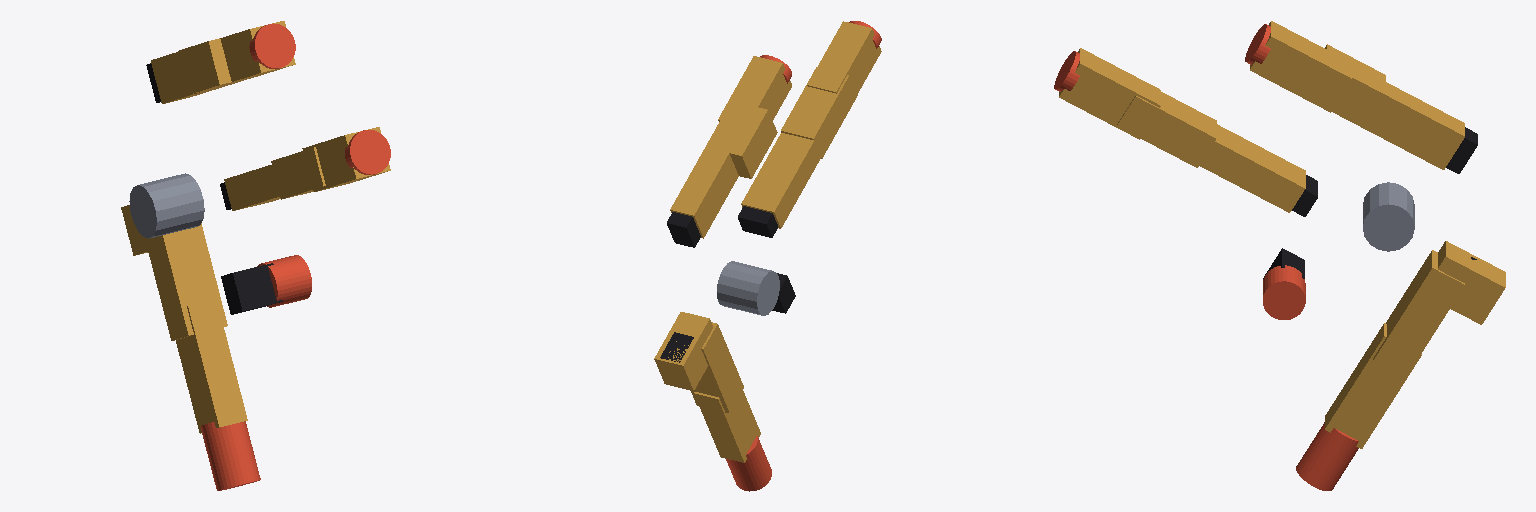
The robot description file, URDF, robot "g0051_c15":
<robot name="g0051_c15">
  <link name="palm">
    <visual name="palm_palm1">
      <origin xyz="0 0 0" rpy="0 0 0" />
      <geometry>
        <mesh filename="palm_palm1.obj" />
      </geometry>
      <material name="palm_palm1_mat">
        <color rgba="0.55 0.57 0.62 1" />
      </material>
    </visual>
    <collision>
      <origin xyz="0 0 0" rpy="0 0 0" />
      <geometry>
        <mesh filename="palm_palm1.obj" />
      </geometry>
    </collision>
    <visual name="palm_mount2">
      <origin xyz="0 0 0" rpy="0 0 0" />
      <geometry>
        <mesh filename="palm_mount2.obj" />
      </geometry>
      <material name="palm_mount2_mat">
        <color rgba="0.55 0.57 0.62 1" />
      </material>
    </visual>
    <collision>
      <origin xyz="0 0 0" rpy="0 0 0" />
      <geometry>
        <mesh filename="palm_mount2.obj" />
      </geometry>
    </collision>
    <visual name="palm_motor3">
      <origin xyz="-0.007 -0.08 -0.04" rpy="1.06057524e-16 -1.04719755 1.57079633" />
      <geometry>
        <box size="0.029 0.034 0.02" />
      </geometry>
      <material name="palm_motor3_mat">
        <color rgba="0.15 0.15 0.17 1" />
      </material>
    </visual>
    <collision>
      <origin xyz="-0.007 -0.08 -0.04" rpy="1.06057524e-16 -1.04719755 1.57079633" />
      <geometry>
        <box size="0.029 0.034 0.02" />
      </geometry>
    </collision>
    <visual name="palm_motor4">
      <origin xyz="-0.0045 -0.0735048095 0.03625" rpy="-0.523598776 -5.30287619e-17 3.061617e-17" />
      <geometry>
        <box size="0.029 0.034 0.02" />
      </geometry>
      <material name="palm_motor4_mat">
        <color rgba="0.15 0.15 0.17 1" />
      </material>
    </visual>
    <collision>
      <origin xyz="-0.0045 -0.0735048095 0.03625" rpy="-0.523598776 -5.30287619e-17 3.061617e-17" />
      <geometry>
        <box size="0.029 0.034 0.02" />
      </geometry>
    </collision>
    <visual name="palm_motor5">
      <origin xyz="-0.0045 0.0666996732 -0.0467548095" rpy="1.57079633 -0.523598776 -1.57079633" />
      <geometry>
        <box size="0.029 0.034 0.02" />
      </geometry>
      <material name="palm_motor5_mat">
        <color rgba="0.15 0.15 0.17 1" />
      </material>
    </visual>
    <collision>
      <origin xyz="-0.0045 0.0666996732 -0.0467548095" rpy="1.57079633 -0.523598776 -1.57079633" />
      <geometry>
        <box size="0.029 0.034 0.02" />
      </geometry>
    </collision>
    <visual name="palm_motor6">
      <origin xyz="0 0.0464951905 0.07625" rpy="-1.57079633 -1.04719755 1.57079633" />
      <geometry>
        <box size="0.029 0.034 0.02" />
      </geometry>
      <material name="palm_motor6_mat">
        <color rgba="0.15 0.15 0.17 1" />
      </material>
    </visual>
    <collision>
      <origin xyz="0 0.0464951905 0.07625" rpy="-1.57079633 -1.04719755 1.57079633" />
      <geometry>
        <box size="0.029 0.034 0.02" />
      </geometry>
    </collision>
    <inertial>
      <origin xyz="0 -0.0018037996 0.00636735465" rpy="-1.57079633 0.16769685 -1.57079633" />
      <mass value="1.07012693" />
      <inertia ixx="0.00194814015" ixy="0" ixz="0" iyy="0.00273407681" iyz="0" izz="0.00457948477" />
    </inertial>
  </link>
  <link name="f0_link0">
    <visual name="f0_link0_link1">
      <origin xyz="0.019 0 -6.9388939e-18" rpy="-1.57079633 -0 -1.57079633" />
      <geometry>
        <cylinder radius="0.0165" length="0.029" />
      </geometry>
      <material name="f0_link0_link1_mat">
        <color rgba="0.85 0.35 0.25 1" />
      </material>
    </visual>
    <collision>
      <origin xyz="0.019 0 -6.9388939e-18" rpy="-1.57079633 -0 -1.57079633" />
      <geometry>
        <cylinder radius="0.0165" length="0.029" />
      </geometry>
    </collision>
    <inertial>
      <origin xyz="0.019 0 0" rpy="0 0 0" />
      <mass value="0.0763354" />
      <inertia ixx="9.49466441e-06" ixy="0" ixz="0" iyy="2.24143997e-05" iyz="0" izz="2.24143997e-05" />
    </inertial>
  </link>
  <link name="f1_link0">
    <visual name="f1_link0_link1">
      <origin xyz="0.03875 0 -1.21430643e-17" rpy="0 7.03853194e-17 0" />
      <geometry>
        <box size="0.1015 0.033 0.024" />
      </geometry>
      <material name="f1_link0_link1_mat">
        <color rgba="0.80 0.62 0.30 1" />
      </material>
    </visual>
    <collision>
      <origin xyz="0.03875 0 -1.21430643e-17" rpy="0 7.03853194e-17 0" />
      <geometry>
        <box size="0.1015 0.033 0.024" />
      </geometry>
    </collision>
    <inertial>
      <origin xyz="0.03875 0 0" rpy="0 0 0" />
      <mass value="0.140679" />
      <inertia ixx="1.95192113e-05" ixy="0" ixz="0" iyy="0.000127528444" iyz="0" izz="0.000133542472" />
    </inertial>
  </link>
  <link name="f1_link1">
    <visual name="f1_link1_link1">
      <origin xyz="0.02375 0 -2.08166817e-17" rpy="0 7.03853194e-17 0" />
      <geometry>
        <box size="0.0715 0.033 0.029" />
      </geometry>
      <material name="f1_link1_link1_mat">
        <color rgba="0.80 0.62 0.30 1" />
      </material>
    </visual>
    <collision>
      <origin xyz="0.02375 0 -2.08166817e-17" rpy="0 7.03853194e-17 0" />
      <geometry>
        <box size="0.0715 0.033 0.029" />
      </geometry>
    </collision>
    <inertial>
      <origin xyz="0.02375 0 0" rpy="0 0 0" />
      <mass value="0.119744625" />
      <inertia ixx="1.92589272e-05" ixy="0" ixz="0" iyy="5.94058074e-05" iyz="0" izz="6.18805296e-05" />
    </inertial>
  </link>
  <link name="f1_link2">
    <visual name="f1_link2_link1">
      <origin xyz="0.02375 0 8.67361738e-19" rpy="0 7.03853194e-17 0" />
      <geometry>
        <box size="0.0715 0.029 0.033" />
      </geometry>
      <material name="f1_link2_link1_mat">
        <color rgba="0.80 0.62 0.30 1" />
      </material>
    </visual>
    <collision>
      <origin xyz="0.02375 0 8.67361738e-19" rpy="0 7.03853194e-17 0" />
      <geometry>
        <box size="0.0715 0.029 0.033" />
      </geometry>
    </collision>
    <inertial>
      <origin xyz="0.02375 0 0" rpy="0 0 0" />
      <mass value="0.119744625" />
      <inertia ixx="1.92589272e-05" ixy="0" ixz="0" iyy="6.18805296e-05" iyz="0" izz="5.94058074e-05" />
    </inertial>
  </link>
  <link name="f1_link3">
    <visual name="f1_link3_link1">
      <origin xyz="0.009 0 -9.97465999e-18" rpy="-1.57079633 -0 -1.57079633" />
      <geometry>
        <cylinder radius="0.0165" length="0.009" />
      </geometry>
      <material name="f1_link3_link1_mat">
        <color rgba="0.85 0.35 0.25 1" />
      </material>
    </visual>
    <collision>
      <origin xyz="0.009 0 -9.97465999e-18" rpy="-1.57079633 -0 -1.57079633" />
      <geometry>
        <cylinder radius="0.0165" length="0.009" />
      </geometry>
    </collision>
    <inertial>
      <origin xyz="0.009 0 0" rpy="0 0 0" />
      <mass value="0.046399949" />
      <inertia ixx="5.41970115e-06" ixy="0" ixz="0" iyy="7.09430898e-06" iyz="0" izz="7.09430898e-06" />
    </inertial>
  </link>
  <link name="f2_link0">
    <visual name="f2_link0_link1">
      <origin xyz="-0.00625 0 -0.0165" rpy="0 4.06369831e-17 0" />
      <geometry>
        <box size="0.0365 0.029 0.053" />
      </geometry>
      <material name="f2_link0_link1_mat">
        <color rgba="0.80 0.62 0.30 1" />
      </material>
    </visual>
    <collision>
      <origin xyz="-0.00625 0 -0.0165" rpy="0 4.06369831e-17 0" />
      <geometry>
        <box size="0.0365 0.029 0.053" />
      </geometry>
    </collision>
    <inertial>
      <origin xyz="-0.00625 0 -0.0165" rpy="0 0 0" />
      <mass value="0.098175875" />
      <inertia ixx="2.98618286e-05" ixy="0" ixz="0" iyy="3.38809035e-05" iyz="0" izz="1.778006e-05" />
    </inertial>
  </link>
  <link name="f2_link1">
    <visual name="f2_link1_link1">
      <origin xyz="0.03375 0 6.9388939e-18" rpy="0 4.06369831e-17 0" />
      <geometry>
        <box size="0.0915 0.033 0.029" />
      </geometry>
      <material name="f2_link1_link1_mat">
        <color rgba="0.80 0.62 0.30 1" />
      </material>
    </visual>
    <collision>
      <origin xyz="0.03375 0 6.9388939e-18" rpy="0 4.06369831e-17 0" />
      <geometry>
        <box size="0.0915 0.033 0.029" />
      </geometry>
    </collision>
    <inertial>
      <origin xyz="0.03375 0 0" rpy="0 0 0" />
      <mass value="0.153239625" />
      <inertia ixx="2.46460397e-05" ixy="0" ixz="0" iyy="0.000117652915" iyz="0" izz="0.000120819867" />
    </inertial>
  </link>
  <link name="f2_link2">
    <visual name="f2_link2_link1">
      <origin xyz="0.03375 0 -1.38777878e-17" rpy="0 4.06369831e-17 0" />
      <geometry>
        <box size="0.0915 0.024 0.033" />
      </geometry>
      <material name="f2_link2_link1_mat">
        <color rgba="0.80 0.62 0.30 1" />
      </material>
    </visual>
    <collision>
      <origin xyz="0.03375 0 -1.38777878e-17" rpy="0 4.06369831e-17 0" />
      <geometry>
        <box size="0.0915 0.024 0.033" />
      </geometry>
    </collision>
    <inertial>
      <origin xyz="0.03375 0 0" rpy="0 0 0" />
      <mass value="0.126819" />
      <inertia ixx="1.75961363e-05" ixy="0" ixz="0" iyy="9.99888553e-05" iyz="0" izz="9.45673431e-05" />
    </inertial>
  </link>
  <link name="f2_link3">
    <visual name="f2_link3_link1">
      <origin xyz="0.029 0 1.04083409e-17" rpy="-1.57079633 -0 -1.57079633" />
      <geometry>
        <cylinder radius="0.0165" length="0.049" />
      </geometry>
      <material name="f2_link3_link1_mat">
        <color rgba="0.85 0.35 0.25 1" />
      </material>
    </visual>
    <collision>
      <origin xyz="0.029 0 1.04083409e-17" rpy="-1.57079633 -0 -1.57079633" />
      <geometry>
        <cylinder radius="0.0165" length="0.049" />
      </geometry>
    </collision>
    <inertial>
      <origin xyz="0.029 0 0" rpy="0 0 0" />
      <mass value="0.106270851" />
      <inertia ixx="1.35696277e-05" ixy="0" ixz="0" iyy="5.30015704e-05" iyz="0" izz="5.30015704e-05" />
    </inertial>
  </link>
  <link name="f3_link0">
    <visual name="f3_link0_link1">
      <origin xyz="0.03375 0 0" rpy="0 7.03853194e-17 0" />
      <geometry>
        <box size="0.0915 0.024 0.033" />
      </geometry>
      <material name="f3_link0_link1_mat">
        <color rgba="0.80 0.62 0.30 1" />
      </material>
    </visual>
    <collision>
      <origin xyz="0.03375 0 0" rpy="0 7.03853194e-17 0" />
      <geometry>
        <box size="0.0915 0.024 0.033" />
      </geometry>
    </collision>
    <inertial>
      <origin xyz="0.03375 0 0" rpy="0 0 0" />
      <mass value="0.126819" />
      <inertia ixx="1.75961363e-05" ixy="0" ixz="0" iyy="9.99888553e-05" iyz="0" izz="9.45673431e-05" />
    </inertial>
  </link>
  <link name="f3_link1">
    <visual name="f3_link1_link1">
      <origin xyz="0.014 -0.00625 -1.38777878e-17" rpy="0 7.03853194e-17 0" />
      <geometry>
        <box size="0.052 0.0365 0.033" />
      </geometry>
      <material name="f3_link1_link1_mat">
        <color rgba="0.80 0.62 0.30 1" />
      </material>
    </visual>
    <collision>
      <origin xyz="0.014 -0.00625 -1.38777878e-17" rpy="0 7.03853194e-17 0" />
      <geometry>
        <box size="0.052 0.0365 0.033" />
      </geometry>
    </collision>
    <inertial>
      <origin xyz="0.014 -0.00625 0" rpy="0 0 0" />
      <mass value="0.1096095" />
      <inertia ixx="2.21160002e-05" ixy="0" ixz="0" iyy="3.46457361e-05" iyz="0" izz="3.6867612e-05" />
    </inertial>
  </link>
  <link name="f3_link2">
    <visual name="f3_link2_link1">
      <origin xyz="0.02375 0 -1.38777878e-17" rpy="0 7.03853194e-17 0" />
      <geometry>
        <box size="0.0715 0.029 0.033" />
      </geometry>
      <material name="f3_link2_link1_mat">
        <color rgba="0.80 0.62 0.30 1" />
      </material>
    </visual>
    <collision>
      <origin xyz="0.02375 0 -1.38777878e-17" rpy="0 7.03853194e-17 0" />
      <geometry>
        <box size="0.0715 0.029 0.033" />
      </geometry>
    </collision>
    <inertial>
      <origin xyz="0.02375 0 0" rpy="0 0 0" />
      <mass value="0.119744625" />
      <inertia ixx="1.92589272e-05" ixy="0" ixz="0" iyy="6.18805296e-05" iyz="0" izz="5.94058074e-05" />
    </inertial>
  </link>
  <link name="f3_link3">
    <visual name="f3_link3_link1">
      <origin xyz="0.009 0 0" rpy="-1.57079633 -0 -1.57079633" />
      <geometry>
        <cylinder radius="0.0165" length="0.009" />
      </geometry>
      <material name="f3_link3_link1_mat">
        <color rgba="0.85 0.35 0.25 1" />
      </material>
    </visual>
    <collision>
      <origin xyz="0.009 0 0" rpy="-1.57079633 -0 -1.57079633" />
      <geometry>
        <cylinder radius="0.0165" length="0.009" />
      </geometry>
    </collision>
    <inertial>
      <origin xyz="0.009 0 0" rpy="0 0 0" />
      <mass value="0.046399949" />
      <inertia ixx="5.41970115e-06" ixy="0" ixz="0" iyy="7.09430898e-06" iyz="0" izz="7.09430898e-06" />
    </inertial>
  </link>
  <joint name="f0_j0" type="revolute">
    <parent link="palm" />
    <child link="f0_link0" />
    <origin xyz="0.0005 -0.08 -0.04" rpy="1.04719755 5.30287619e-17 -3.061617e-17" />
    <axis xyz="0 1 6.123234e-17" />
    <limit effort="0.5" lower="-0.523598776" upper="0.523598776" velocity="5" />
    <dynamics damping="0.0775033" friction="0" />
  </joint>
  <joint name="f1_j0" type="revolute">
    <parent link="palm" />
    <child link="f1_link0" />
    <origin xyz="-0.0045 -0.08 0.04" rpy="-0 -0.523598776 -1.57079633" />
    <axis xyz="-0 -1 -6.123234e-17" />
    <limit effort="0.5" lower="-0.523598776" upper="0.523598776" velocity="5" />
    <dynamics damping="0.0775033" friction="0" />
  </joint>
  <joint name="f1_j1" type="revolute">
    <parent link="f1_link0" />
    <child link="f1_link1" />
    <origin xyz="0.08 0 0" rpy="0 0 0" />
    <axis xyz="-0 -1 -6.123234e-17" />
    <limit effort="0.5" lower="-0.523598776" upper="0.523598776" velocity="5" />
    <dynamics damping="0.0775033" friction="0" />
  </joint>
  <joint name="f1_j2" type="revolute">
    <parent link="f1_link1" />
    <child link="f1_link2" />
    <origin xyz="0.05 0 0" rpy="0 0 0" />
    <axis xyz="0 0 1" />
    <limit effort="0.5" lower="-0.523598776" upper="1.57079633" velocity="5" />
    <dynamics damping="0.0775033" friction="0" />
  </joint>
  <joint name="f1_j3" type="revolute">
    <parent link="f1_link2" />
    <child link="f1_link3" />
    <origin xyz="0.05 0 0" rpy="0 0 0" />
    <axis xyz="-0 -1 -6.123234e-17" />
    <limit effort="0.5" lower="-0.523598776" upper="0.523598776" velocity="5" />
    <dynamics damping="0.0775033" friction="0" />
  </joint>
  <joint name="f2_j0" type="revolute">
    <parent link="palm" />
    <child link="f2_link0" />
    <origin xyz="-0.0045 0.04 -0.04" rpy="0 1.04719755 -1.57079633" />
    <axis xyz="0 0 1" />
    <limit effort="0.5" lower="-0.523598776" upper="1.57079633" velocity="5" />
    <dynamics damping="0.0775033" friction="0" />
  </joint>
  <joint name="f2_j1" type="revolute">
    <parent link="f2_link0" />
    <child link="f2_link1" />
    <origin xyz="0 0 0" rpy="0 0 0" />
    <axis xyz="0 1 6.123234e-17" />
    <limit effort="0.5" lower="-0.523598776" upper="0.523598776" velocity="5" />
    <dynamics damping="0.0775033" friction="0" />
  </joint>
  <joint name="f2_j2" type="revolute">
    <parent link="f2_link1" />
    <child link="f2_link2" />
    <origin xyz="0.07 0 0" rpy="0 0 0" />
    <axis xyz="0 0 1" />
    <limit effort="0.5" lower="-0.523598776" upper="1.57079633" velocity="5" />
    <dynamics damping="0.0775033" friction="0" />
  </joint>
  <joint name="f2_j3" type="revolute">
    <parent link="f2_link2" />
    <child link="f2_link3" />
    <origin xyz="0.07 0 0" rpy="0 0 0" />
    <axis xyz="0 0 1" />
    <limit effort="0.5" lower="-0.523598776" upper="1.57079633" velocity="5" />
    <dynamics damping="0.0775033" friction="0" />
  </joint>
  <joint name="f3_j0" type="revolute">
    <parent link="palm" />
    <child link="f3_link0" />
    <origin xyz="0 0.04 0.08" rpy="-0 -0.523598776 -1.57079633" />
    <axis xyz="0 0 1" />
    <limit effort="0.5" lower="-0.523598776" upper="1.57079633" velocity="5" />
    <dynamics damping="0.0775033" friction="0" />
  </joint>
  <joint name="f3_j1" type="revolute">
    <parent link="f3_link0" />
    <child link="f3_link1" />
    <origin xyz="0.07 0 0" rpy="0 0 0" />
    <axis xyz="0 0 1" />
    <limit effort="0.5" lower="-0.523598776" upper="1.57079633" velocity="5" />
    <dynamics damping="0.0775033" friction="0" />
  </joint>
  <joint name="f3_j2" type="revolute">
    <parent link="f3_link1" />
    <child link="f3_link2" />
    <origin xyz="0.03 0 0" rpy="0 0 0" />
    <axis xyz="0 0 1" />
    <limit effort="0.5" lower="-0.523598776" upper="1.57079633" velocity="5" />
    <dynamics damping="0.0775033" friction="0" />
  </joint>
  <joint name="f3_j3" type="revolute">
    <parent link="f3_link2" />
    <child link="f3_link3" />
    <origin xyz="0.05 0 0" rpy="0 0 0" />
    <axis xyz="-0 -1 -6.123234e-17" />
    <limit effort="0.5" lower="-0.523598776" upper="0.523598776" velocity="5" />
    <dynamics damping="0.0775033" friction="0" />
  </joint>
</robot>

--- What the picture shows (computed from the rendered views, not written in the file) ---
The picture shows the robot from 3 angles, left to right: view 1: azimuth 30°, elevation 25°; view 2: azimuth 150°, elevation 25°; view 3: azimuth 270°, elevation 25°; orthographic projection.
Robot: g0051_c15 — 14 links, 13 joints (13 revolute); root link palm; default pose: every joint at zero.
Links seen in each view (by area): view 1: palm, f2_link2, f2_link1, f2_link3, f3_link1, f1_link1, f1_link0, f0_link0, f1_link2, f1_link3, f3_link2, f3_link3 (+2 smaller); view 2: palm, f1_link0, f3_link0, f1_link2, f3_link2, f1_link1, f2_link2, f2_link0, f2_link1, f3_link1, f2_link3; view 3: f3_link0, f2_link1, f1_link0, f3_link2, palm, f2_link2, f1_link2, f1_link1, f2_link0, f2_link3, f0_link0, f3_link1 (+2 smaller).
Link boxes in pixels (<box>): palm: <box>129,63,282,314</box>; f2_link2: <box>176,299,247,433</box>; f2_link1: <box>145,223,227,340</box>; f2_link3: <box>200,421,260,490</box>; f3_link1: <box>178,38,243,94</box>; f1_link1: <box>271,147,325,199</box>; f1_link0: <box>224,165,280,210</box>; f0_link0: <box>257,255,311,307</box>; f1_link2: <box>302,127,390,191</box>; f1_link3: <box>345,130,390,174</box>; f3_link2: <box>220,21,295,85</box>; f3_link3: <box>249,23,295,68</box>; palm: <box>660,206,795,362</box>; f1_link0: <box>741,125,831,228</box>; f3_link0: <box>670,128,739,238</box>; f1_link2: <box>807,21,881,93</box>; f3_link2: <box>718,56,791,126</box>; f1_link1: <box>781,67,857,158</box>; f2_link2: <box>694,391,760,462</box>; f2_link0: <box>654,312,712,390</box>; f2_link1: <box>691,322,743,412</box>; f3_link1: <box>708,107,777,178</box>; f2_link3: <box>726,436,771,491</box>; f3_link0: <box>1341,73,1464,169</box>; f2_link1: <box>1373,250,1464,378</box>; f1_link0: <box>1175,124,1305,212</box>; f3_link2: <box>1250,21,1351,112</box>; palm: <box>1263,127,1477,278</box>; f2_link2: <box>1325,323,1421,448</box>; f1_link2: <box>1059,48,1160,139</box>; f1_link1: <box>1117,92,1216,167</box>; f2_link0: <box>1438,241,1505,324</box>; f2_link3: <box>1296,422,1358,490</box>; f0_link0: <box>1263,265,1305,319</box>; f3_link1: <box>1325,44,1385,128</box>.
Bounding box of the posed robot: 0.086 × 0.3453 × 0.3919 m (x, y, z).
1 mesh visuals loaded from 2 distinct referenced files (1 OBJ); not drawn: 1 (reference not matched to a file when rendering).
